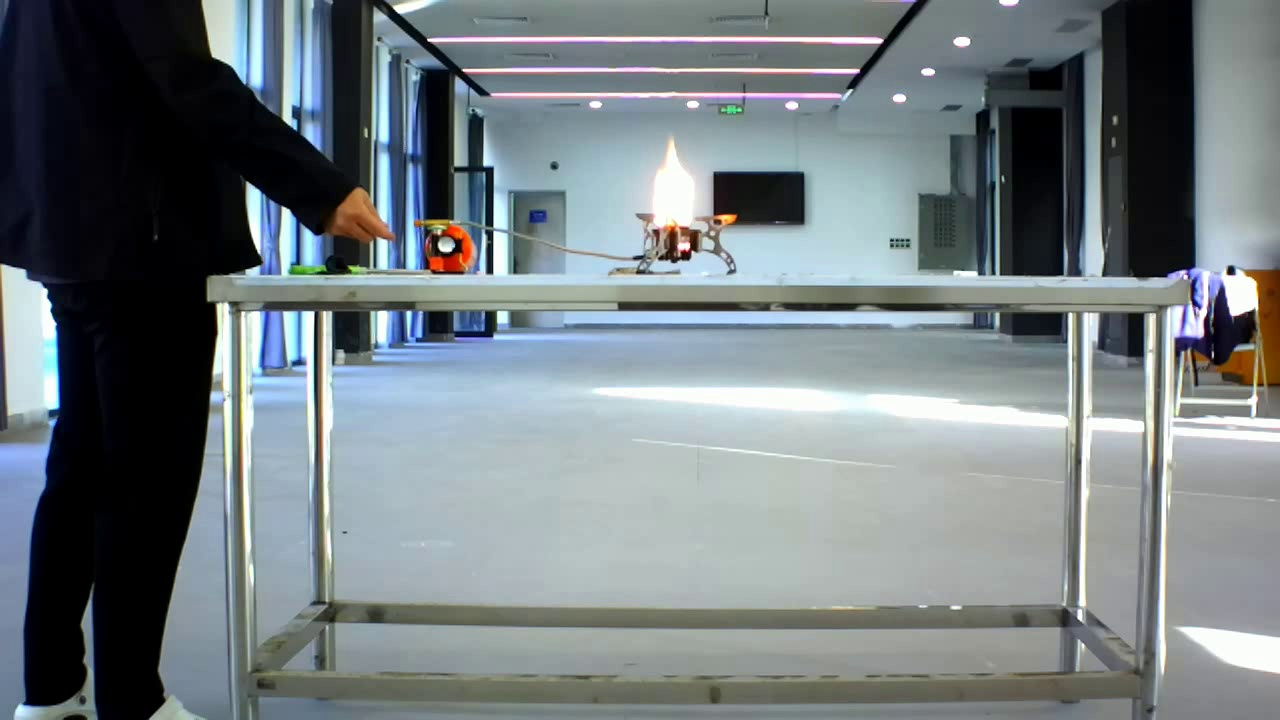Fire: (637, 129, 744, 275)
